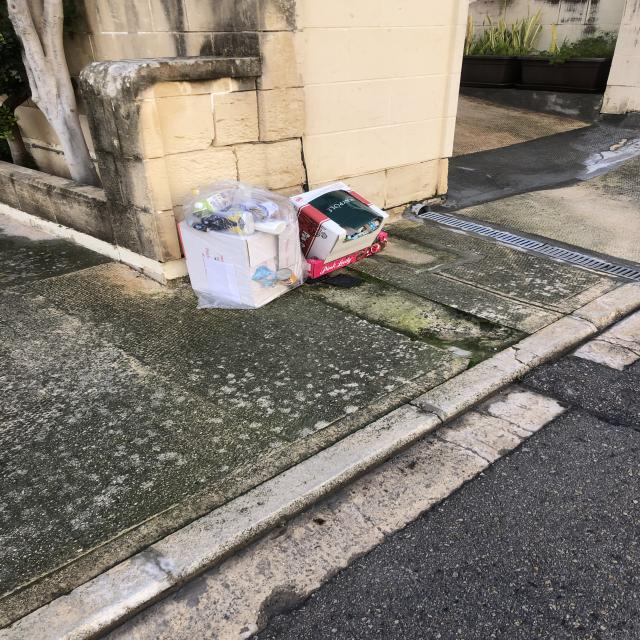Other: (176, 220, 303, 310), (289, 180, 391, 267), (306, 232, 389, 279)
Recycled Waste -Grey or Green Bag-: (175, 178, 312, 313)
